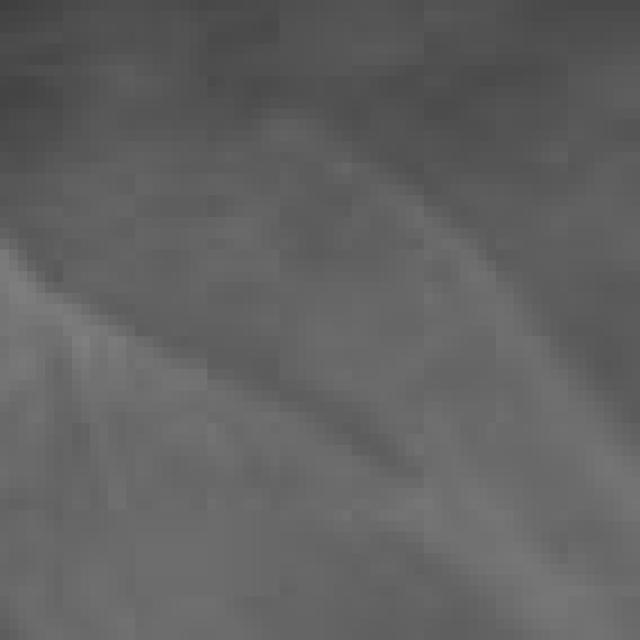fracture: (5, 3, 640, 640)
